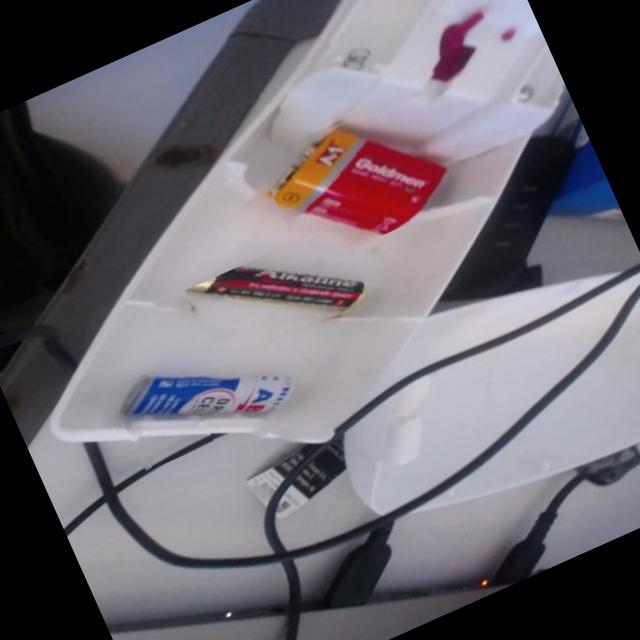Hazard: (255, 87, 462, 270), (108, 319, 304, 473), (182, 223, 372, 374)
